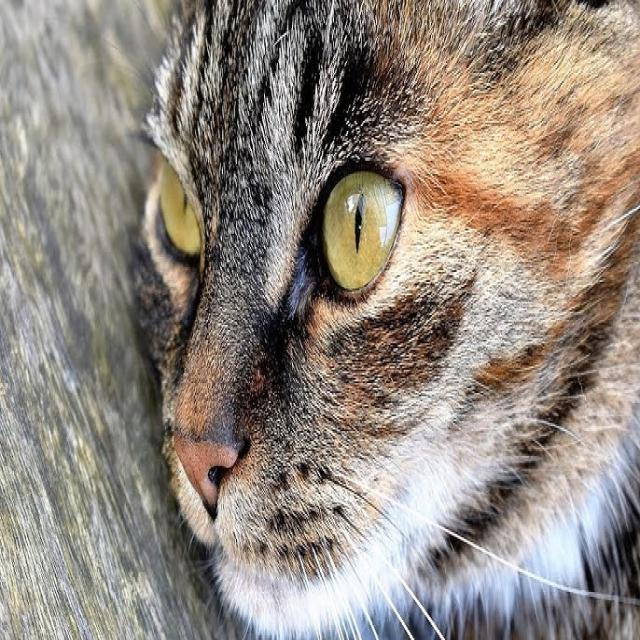Healthy skin: (430, 323, 584, 496), (475, 60, 599, 235), (215, 40, 315, 162), (370, 22, 452, 134), (294, 379, 362, 473), (222, 229, 276, 288)
